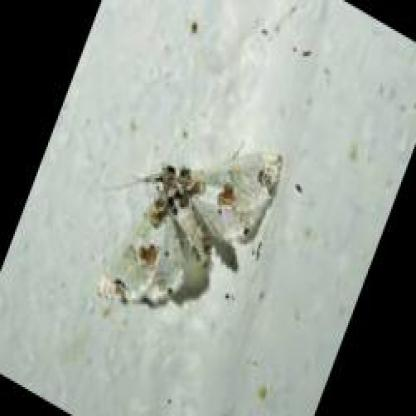leucinodes: (99, 154, 285, 310)
